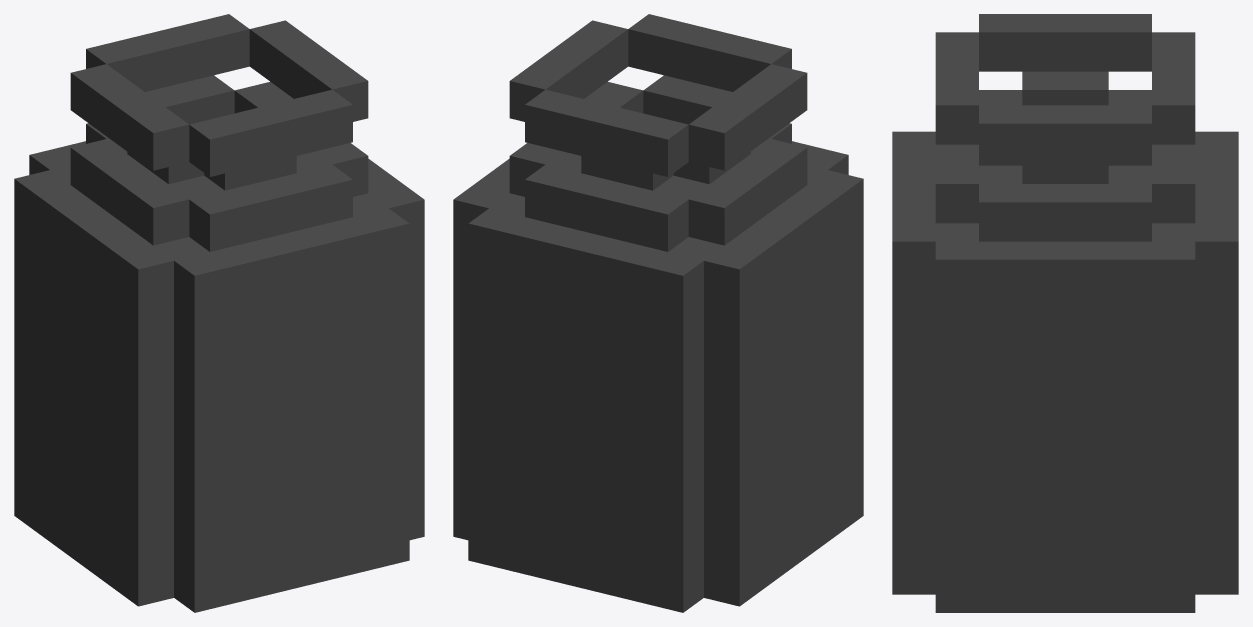
File: bottle.obj
The picture shows the model from 3 angles, left to right: view 1: azimuth 30°, elevation 25°; view 2: azimuth 150°, elevation 25°; view 3: azimuth 270°, elevation 25°; orthographic projection. The views are drawn at different scales.
Size of the model in its own units: 0.8 by 1.2 by 0.8.
1 material, 1 textured.
